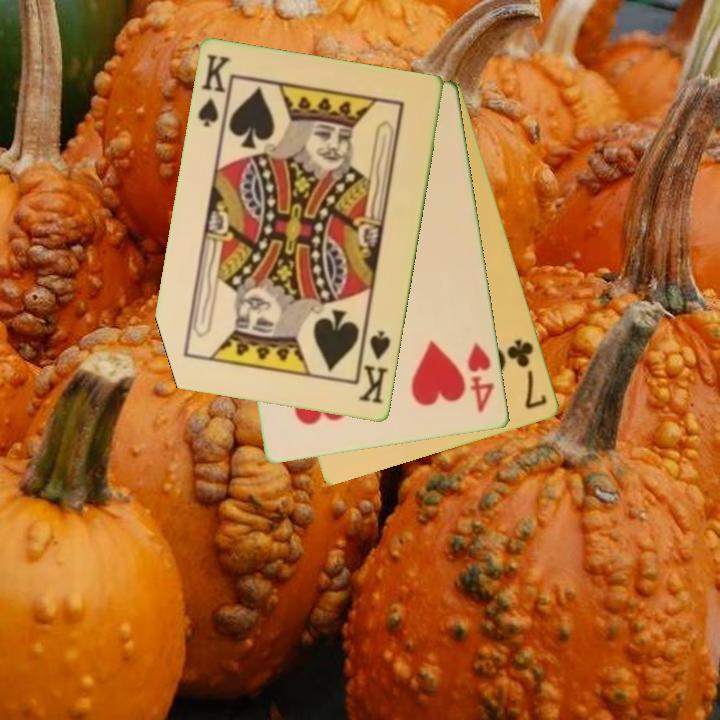4h: (464, 339, 497, 416)
7c: (504, 336, 551, 413)
Ks: (195, 51, 234, 135), (355, 325, 394, 407)
